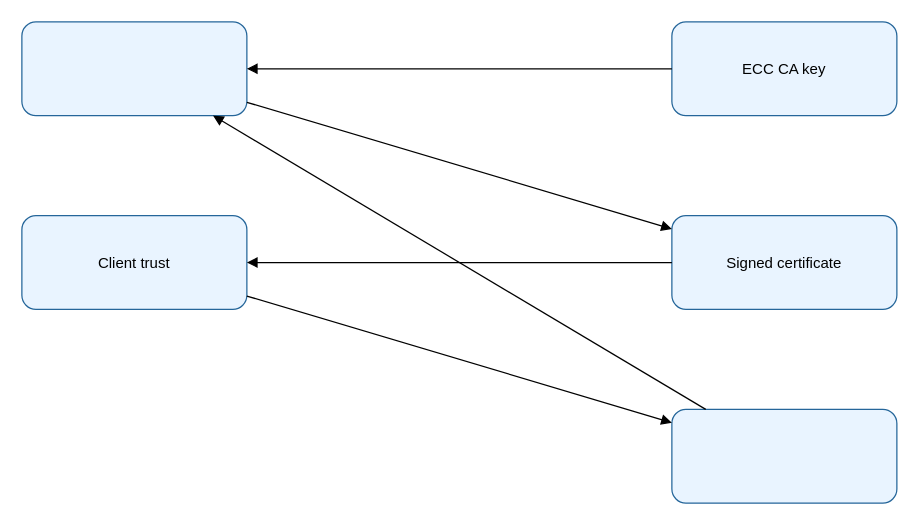
Some shapes in this 919 by 525 pixel diagram are drawn without their labels. Each missing label, with the box of its shape:
Certificate CSR: (21, 21, 247, 116)
TLS verification: (671, 408, 897, 503)
